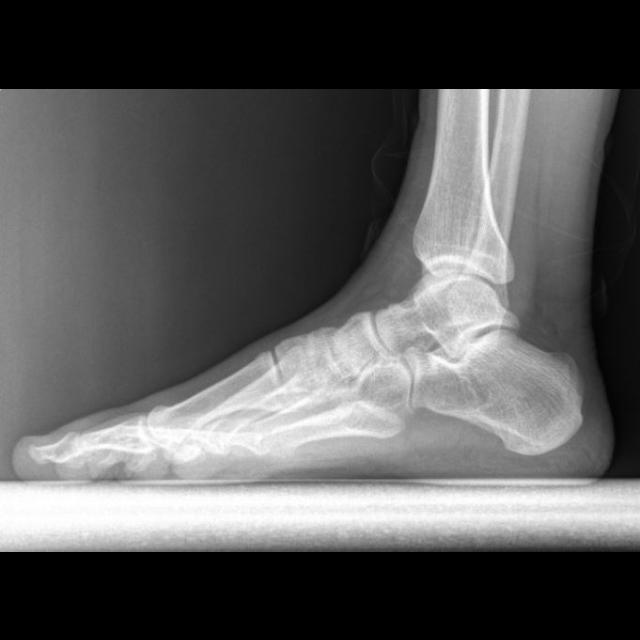a: (405, 329, 586, 454)
b: (331, 312, 401, 381)
c: (148, 349, 287, 448)
